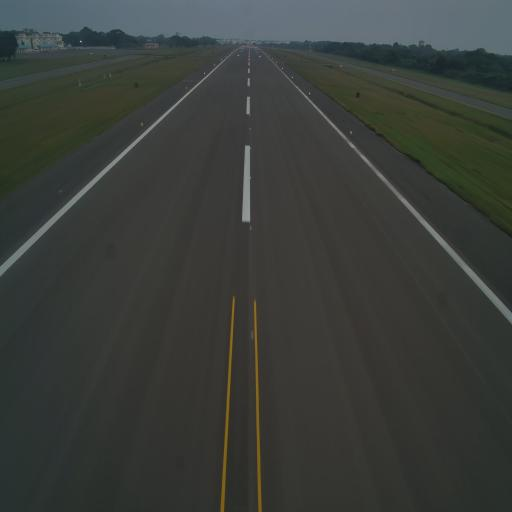on: (248, 326, 256, 342), (348, 127, 353, 140), (138, 119, 145, 127), (249, 220, 253, 231), (248, 125, 252, 133), (248, 144, 252, 150), (249, 174, 252, 181)
